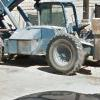Tractor: (11, 2, 92, 75)
